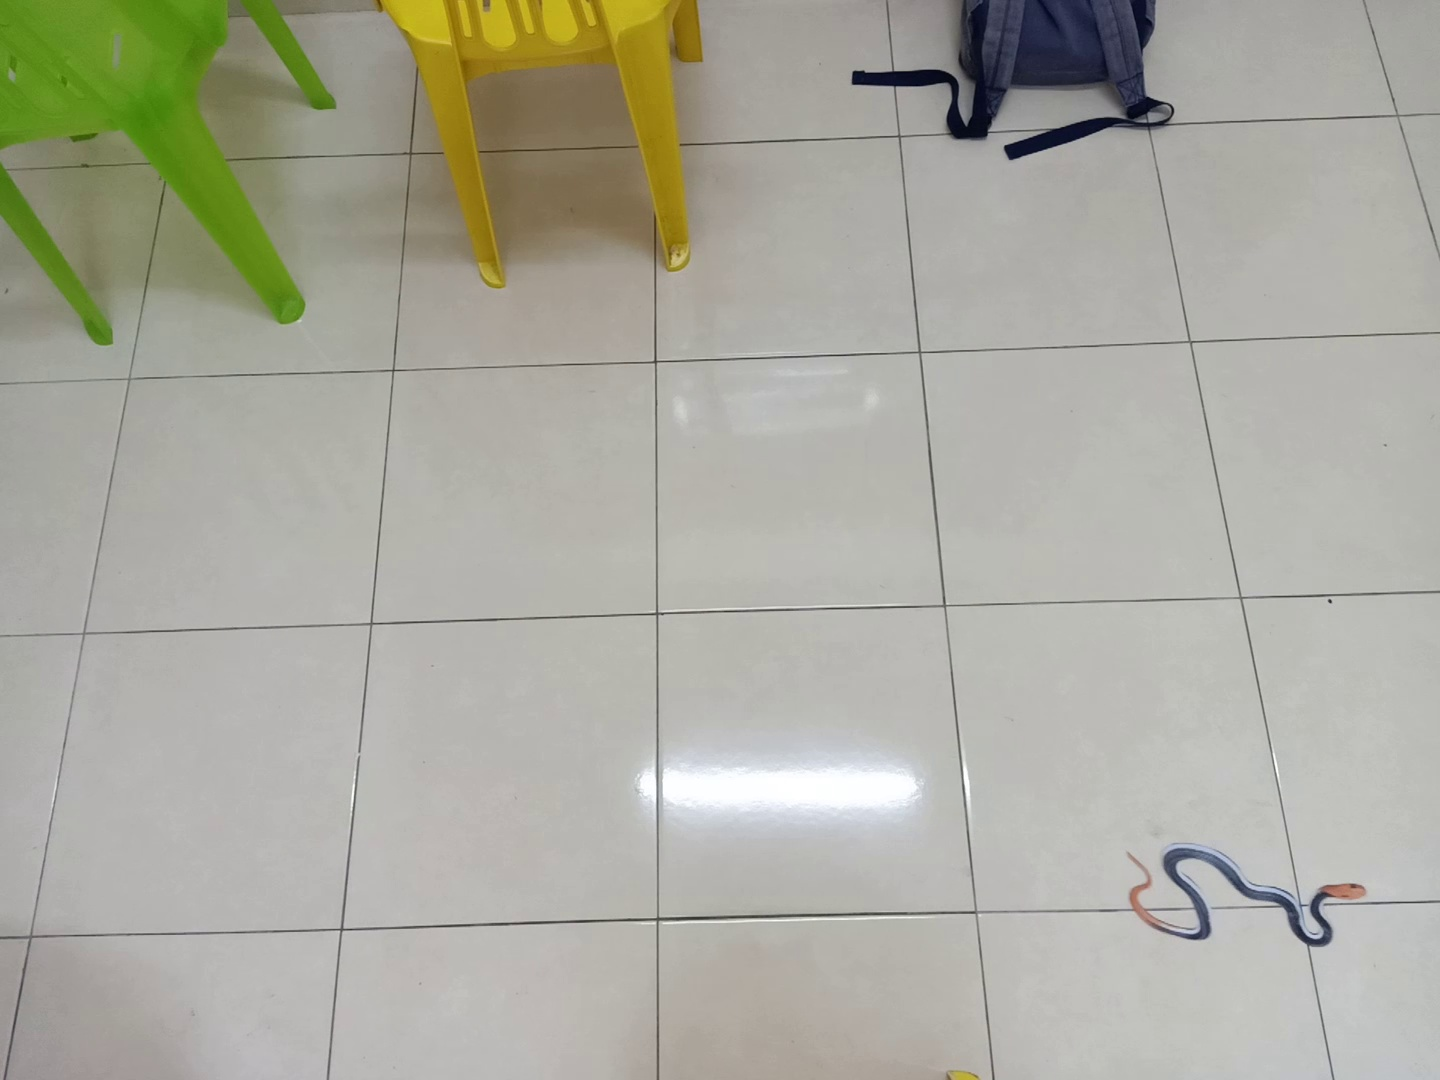snake: (1123, 837, 1379, 959)
